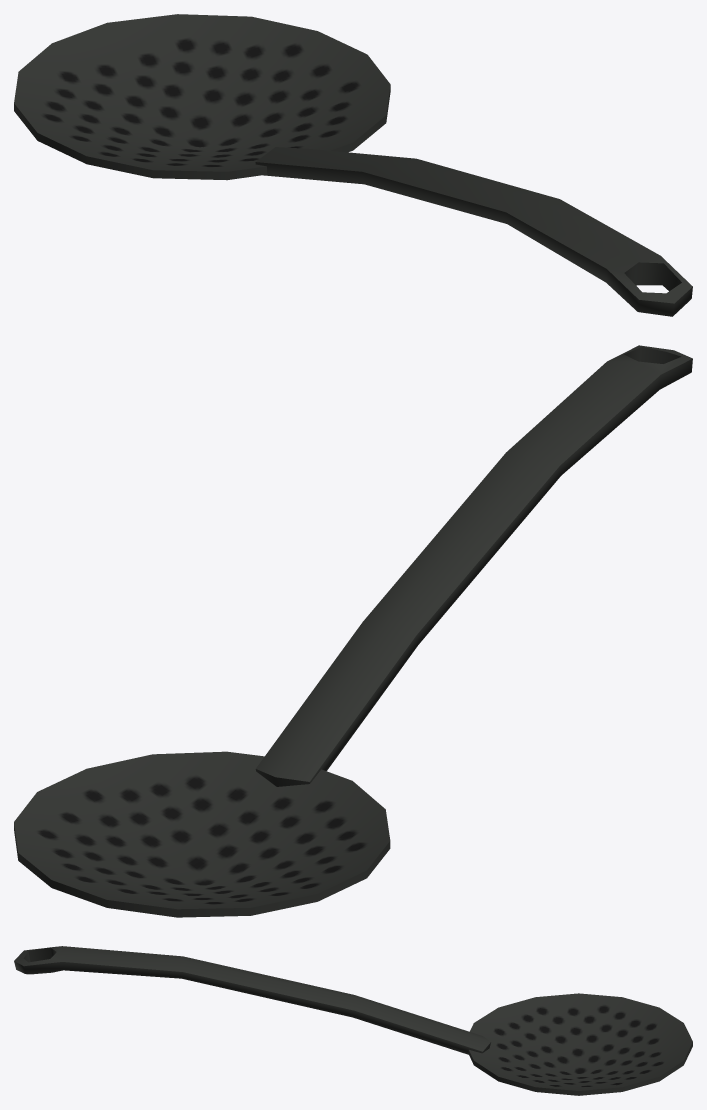
The model's file is Product_skimmer.FBX.
3 renders of one model, top to bottom at view 1: azimuth 30°, elevation 25°; view 2: azimuth 150°, elevation 25°; view 3: azimuth 270°, elevation 25°, orthographic. The views are drawn at different scales.
Parts seen in each view (by area): view 1: product_skimmer_LOD00; view 2: product_skimmer_LOD00; view 3: product_skimmer_LOD00.
Boxes of the visible parts, box(x1,y1,x2,y2) form: product_skimmer_LOD00: box(14, 14, 692, 316); product_skimmer_LOD00: box(14, 345, 692, 917); product_skimmer_LOD00: box(14, 946, 692, 1095).
Size of what is drawn, in the model's own units: 0.0947 by 0.0583 by 0.282.
